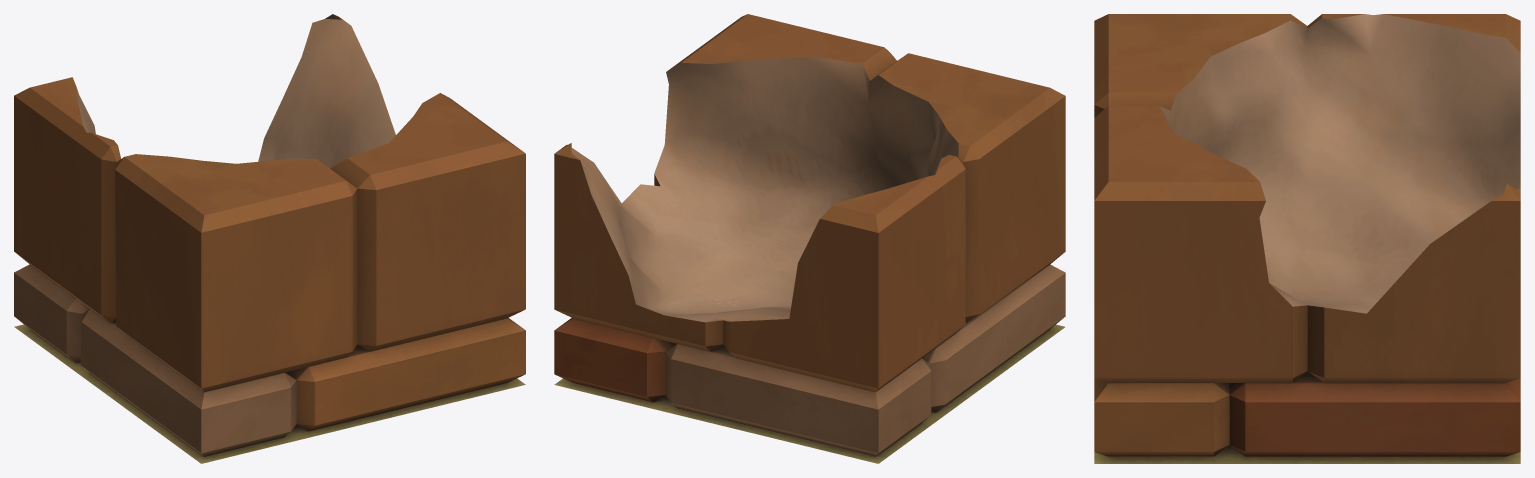
File: â-Mur.FBX
3 views of the same model, side by side, from view 1: azimuth 30°, elevation 25°; view 2: azimuth 150°, elevation 25°; view 3: azimuth 270°, elevation 25° (orthographic). The views are drawn at different scales.
Visible parts, largest first — view 1: â-Mur; view 2: â-Mur; view 3: â-Mur.
Part boxes in pixels (bbox=[...]): â-Mur: bbox=[14, 14, 525, 463]; â-Mur: bbox=[554, 14, 1065, 463]; â-Mur: bbox=[1094, 14, 1520, 463].
Size of the model in its own units: 2 by 1.42 by 2.
